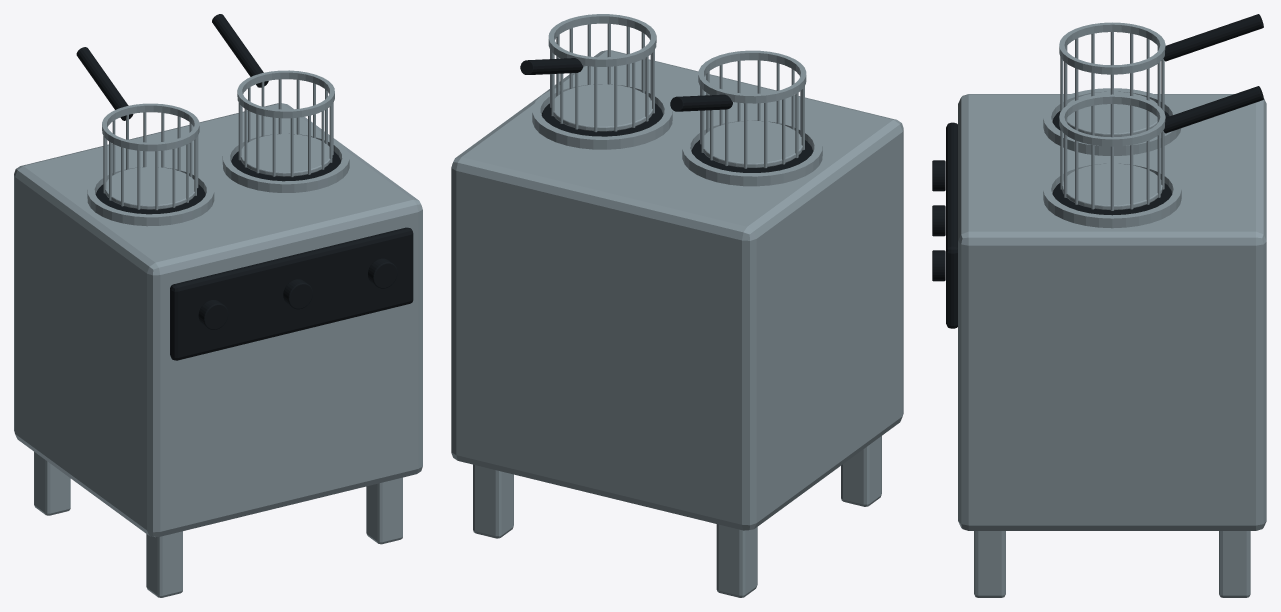
The picture shows the model from 3 angles, left to right: view 1: azimuth 30°, elevation 25°; view 2: azimuth 150°, elevation 25°; view 3: azimuth 270°, elevation 25°; orthographic projection. The views are drawn at different scales.
Parts seen in each view (by area): view 1: BODY, CONTROL_Panel, BASKET_Wires.001, BASKET_Wires, BASKET_Base, BASKET_Base.001, WELL_Rim.001, WELL_Rim, LEG, LEG.002, BASKET_Rim.001, BASKET_Rim (+8 smaller); view 2: BODY, BASKET_Base, BASKET_Base.001, BASKET_Wires, BASKET_Wires.001, WELL_Rim.001, WELL_Rim, LEG.001, LEG.003, BASKET_Rim, BASKET_Rim.001, LEG (+4 smaller); view 3: BODY, BASKET_Base, WELL_Rim.001, BASKET_Wires.001, CONTROL_Panel, BASKET_Rim.001, BASKET_Rim, BASKET_Base.001, WELL_Rim, LEG.002, LEG.003, BASKET_Wires (+3 smaller).
Part boxes in pixels (x1,y1,x2,y2): BODY: (14,103,422,537); CONTROL_Panel: (170,227,413,360); BASKET_Wires.001: (238,79,333,177); BASKET_Wires: (103,112,198,210); BASKET_Base: (240,134,332,176); BASKET_Base.001: (105,167,194,209); WELL_Rim.001: (222,130,349,192); WELL_Rim: (87,163,214,226); LEG: (146,531,182,597); LEG.002: (366,477,402,544); BASKET_Rim.001: (237,70,334,118); BASKET_Rim: (102,103,199,151); BODY: (451,50,903,530); BASKET_Base: (553,84,652,131); BASKET_Base.001: (703,120,802,167); BASKET_Wires: (700,60,804,168); BASKET_Wires.001: (550,23,654,132); WELL_Rim.001: (532,80,672,149); WELL_Rim: (682,117,822,186); LEG.001: (716,524,757,597); LEG.003: (473,464,513,538); BASKET_Rim: (698,50,806,103); BASKET_Rim.001: (548,14,656,66); LEG: (841,436,881,506); BODY: (958,94,1266,530); BASKET_Base: (1062,163,1162,210); WELL_Rim.001: (1043,160,1181,228); BASKET_Wires.001: (1060,104,1164,210); CONTROL_Panel: (946,122,957,328); BASKET_Rim.001: (1059,94,1165,146); BASKET_Rim: (1059,22,1165,74); BASKET_Base.001: (1067,91,1157,136); WELL_Rim: (1043,88,1181,155); LEG.002: (974,531,1005,597); LEG.003: (1219,531,1250,597); BASKET_Wires: (1060,32,1164,111).
Bounding box in the file's own units: 0.65 × 1 × 0.6285.
